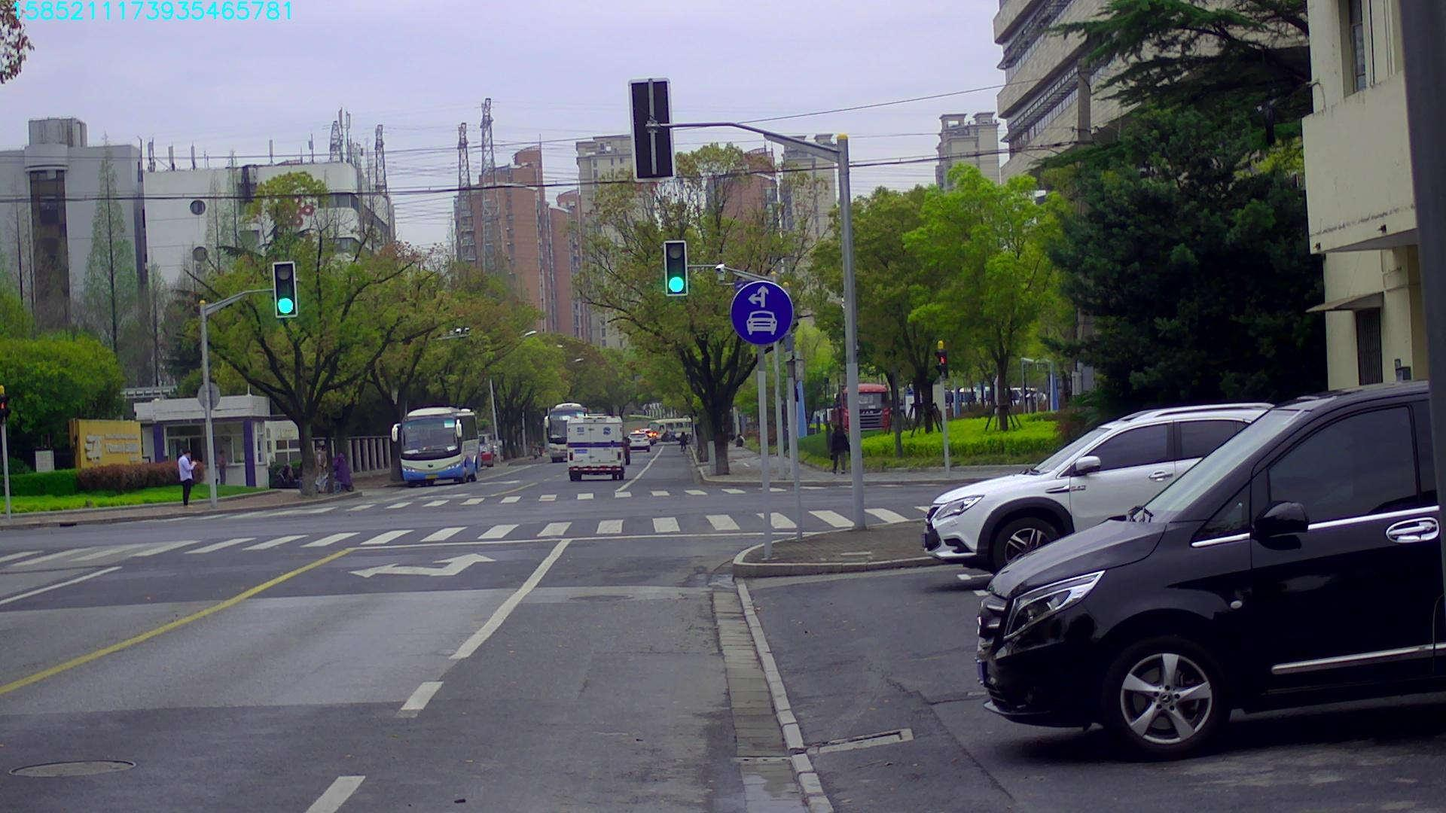green: (665, 241, 687, 293), (274, 262, 295, 315)
